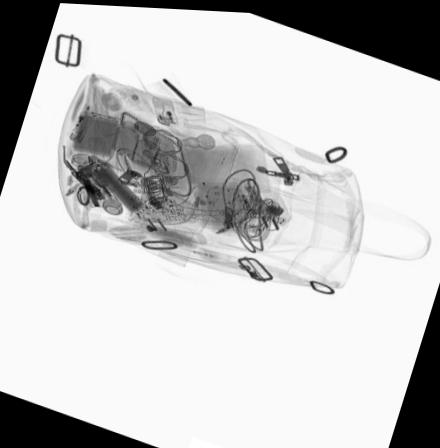Lighter: (66, 101, 98, 142)
